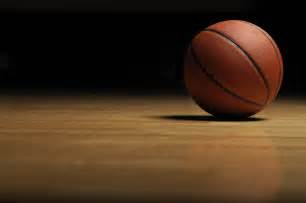basketball: (183, 20, 286, 121)
